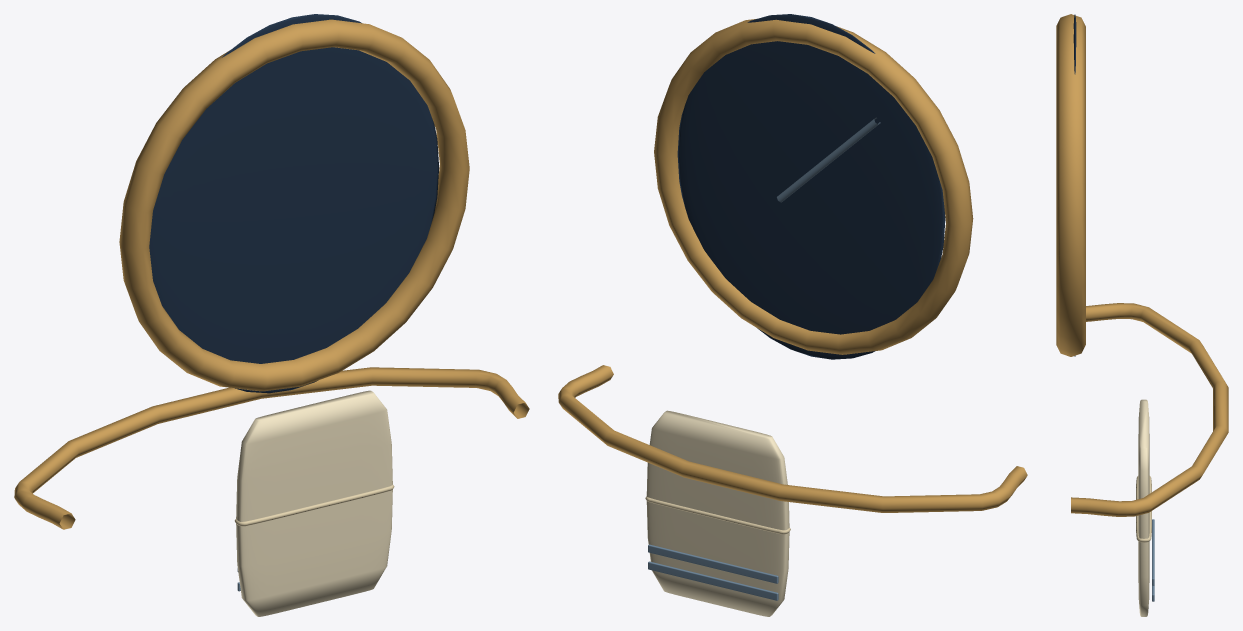
File: bath_mirror.glb
3 renders of one model, left to right at view 1: azimuth 30°, elevation 25°; view 2: azimuth 150°, elevation 25°; view 3: azimuth 270°, elevation 25°, orthographic. The views are drawn at different scales.
Parts seen in each view (by area): view 1: House07_bath_mirror; view 2: House07_bath_mirror; view 3: House07_bath_mirror.
Boxes of the visible parts, x1,y1,x2,y2 form: House07_bath_mirror: (14,14,529,616); House07_bath_mirror: (558,14,1027,616); House07_bath_mirror: (1056,14,1228,616).
Size of the model in its own units: 1.1 by 1.35 by 0.3904.
